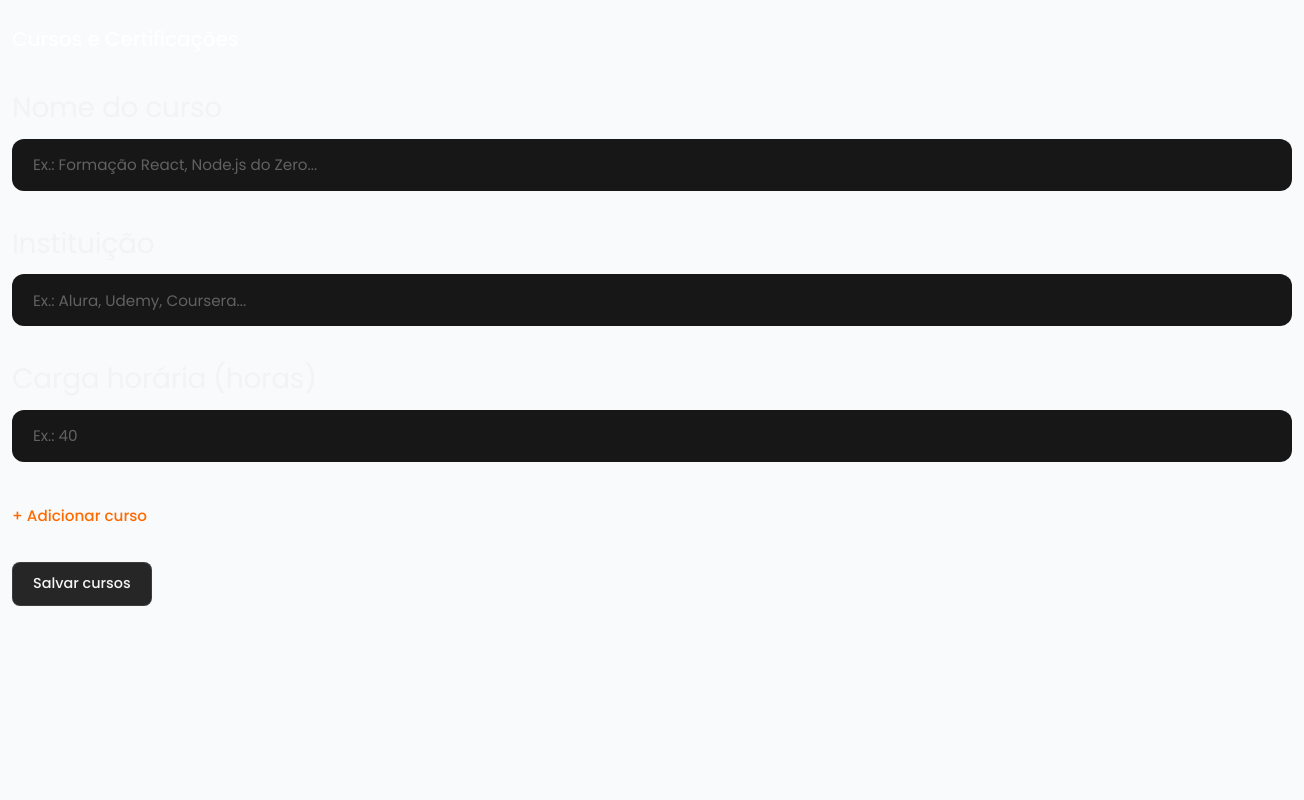
FormularioCursos › adiciona uma nova entrada de curso ao clicar no botão
The image size is (1304, 800).
Click the button "+ Adicionar curso" at (80, 516), box x1=12 y1=494 x2=147 y2=538
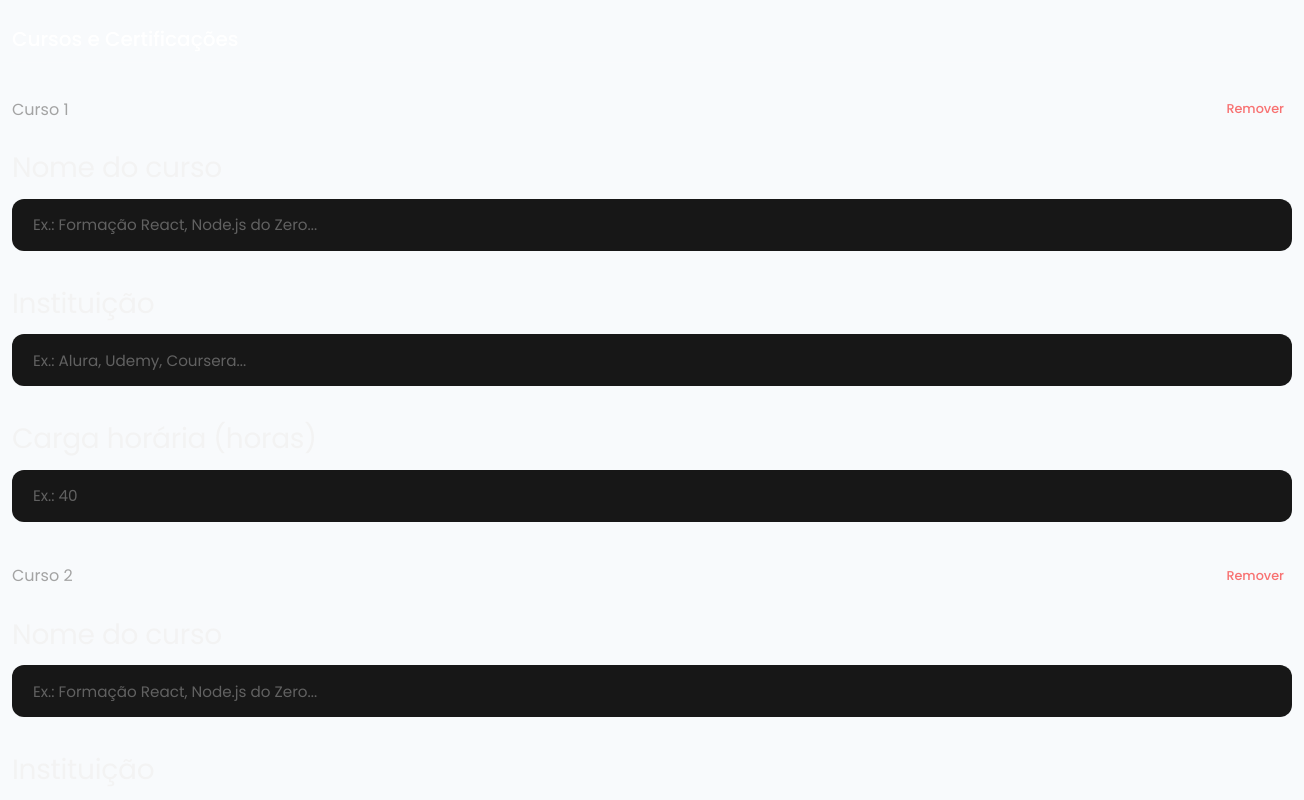
Now the number of fields labelled "Nome do curso" is 2, box x1=12 y1=199 x2=1292 y2=251; x1=12 y1=665 x2=1292 y2=717
